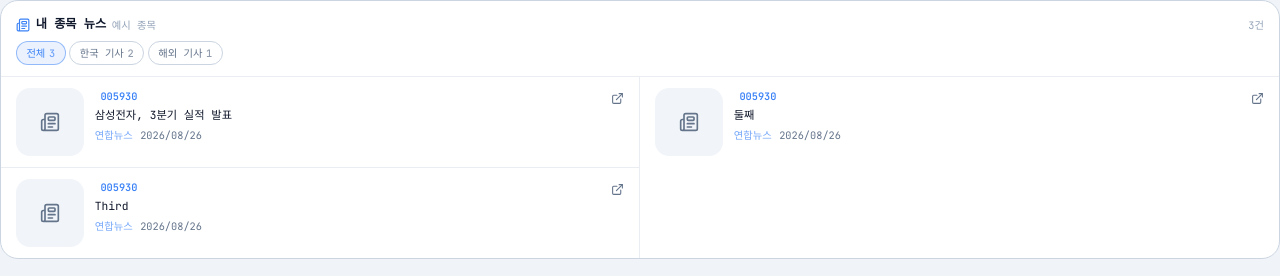
Test: 화면 › 건수도 고른 칸을 따라간다
Expected: the text "3건" is shown, [1248, 18, 1264, 32]
Click the button "해외 기사1" at {"x": 185, "y": 53}, box [148, 41, 223, 65]
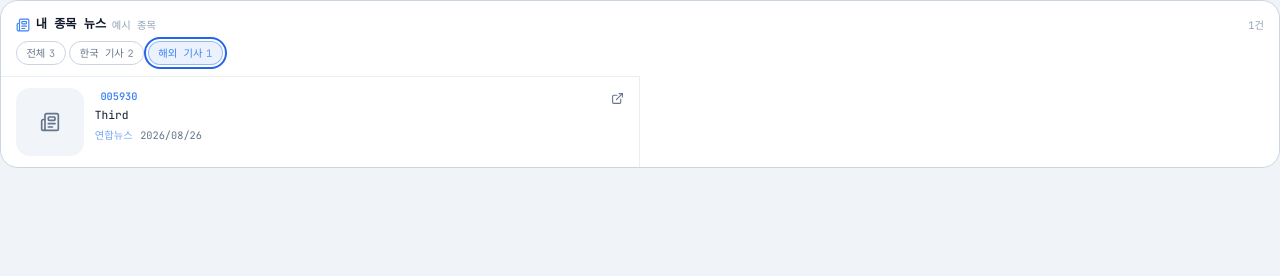
Expected: the text "1건" is shown, [1248, 18, 1264, 32]
